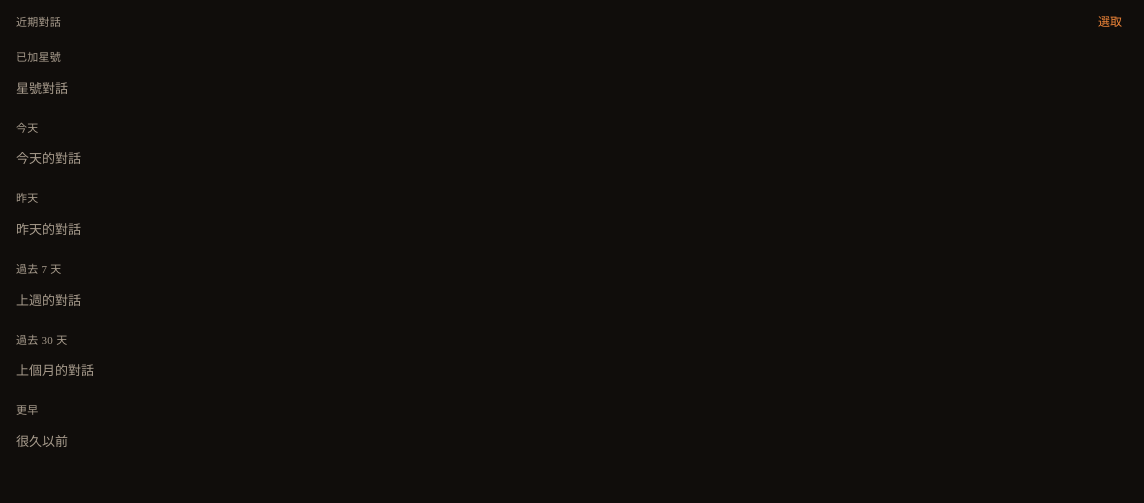
Scenario: RecentsList select mode › swaps row menus for checkboxes, adds a select-all row and a cancel toggle
Click the button "選取" at (1110, 22), box [1088,8,1132,36]
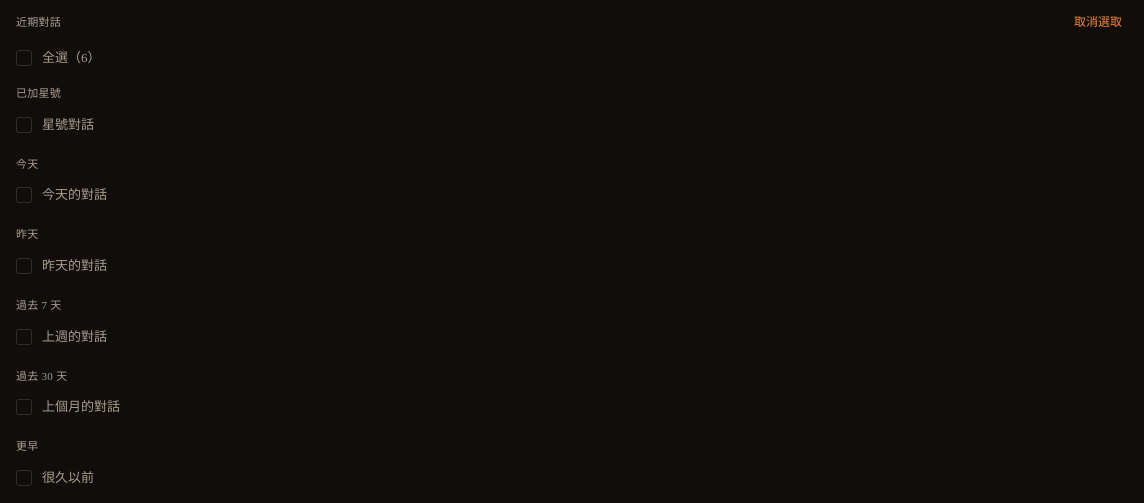
Check: the button "取消選取" is shown, box [1064,8,1132,36]
